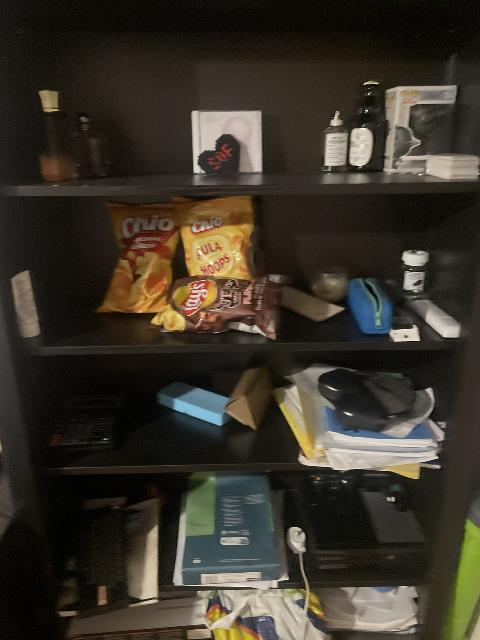Chio Cascaval 125g: (94, 200, 186, 316)
Chio Hula Hoops Cheese 70g: (177, 196, 259, 284)
Lays Beef Grilled Ribs 125g: (157, 272, 284, 335)
